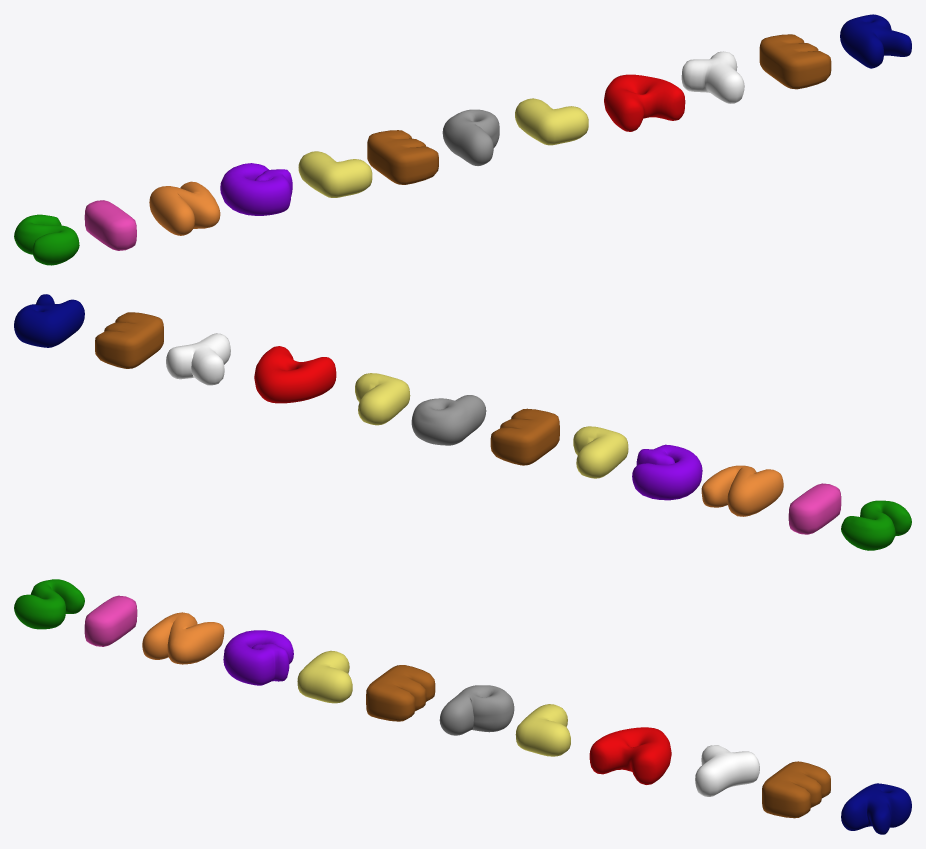
Rendered from singleplayer.fbx.
3 views of the same model, one above another, from view 1: azimuth 30°, elevation 25°; view 2: azimuth 150°, elevation 25°; view 3: azimuth 330°, elevation 25° (orthographic).
Visible parts, largest first — view 1: A, G, E.001, E, N, R, L, L.001, P, S, Y, I; view 2: A, G, N, E, E.001, P, R, S, Y, L, L.001, I; view 3: A, G, N, E, E.001, P, R, S, Y, L, L.001, I.
Boxes of the visible parts, <box> form: A: <box>604,74,685,131</box>; G: <box>220,163,292,215</box>; E.001: <box>759,34,831,89</box>; E: <box>367,130,438,184</box>; N: <box>149,181,220,235</box>; R: <box>840,14,911,68</box>; L: <box>298,151,372,197</box>; L.001: <box>515,98,588,145</box>; P: <box>442,109,499,165</box>; S: <box>14,214,79,265</box>; Y: <box>681,51,744,103</box>; I: <box>84,200,136,250</box>; A: <box>254,346,336,403</box>; G: <box>632,444,702,500</box>; N: <box>701,465,783,516</box>; E: <box>490,408,559,465</box>; E.001: <box>95,312,163,368</box>; P: <box>411,395,486,445</box>; R: <box>14,294,84,347</box>; S: <box>841,500,911,550</box>; Y: <box>166,333,230,385</box>; L: <box>573,426,628,478</box>; L.001: <box>355,373,410,425</box>; I: <box>788,483,841,534</box>; A: <box>589,727,671,784</box>; G: <box>223,630,293,685</box>; N: <box>142,612,224,664</box>; E: <box>366,665,435,721</box>; E.001: <box>762,761,830,818</box>; P: <box>439,685,514,735</box>; R: <box>841,783,911,834</box>; S: <box>14,579,84,629</box>; Y: <box>695,745,759,796</box>; L: <box>297,650,352,703</box>; L.001: <box>515,704,570,756</box>; I: <box>84,595,137,646</box>.
Size of the model in its own units: 1312 by 52.96 by 107.
